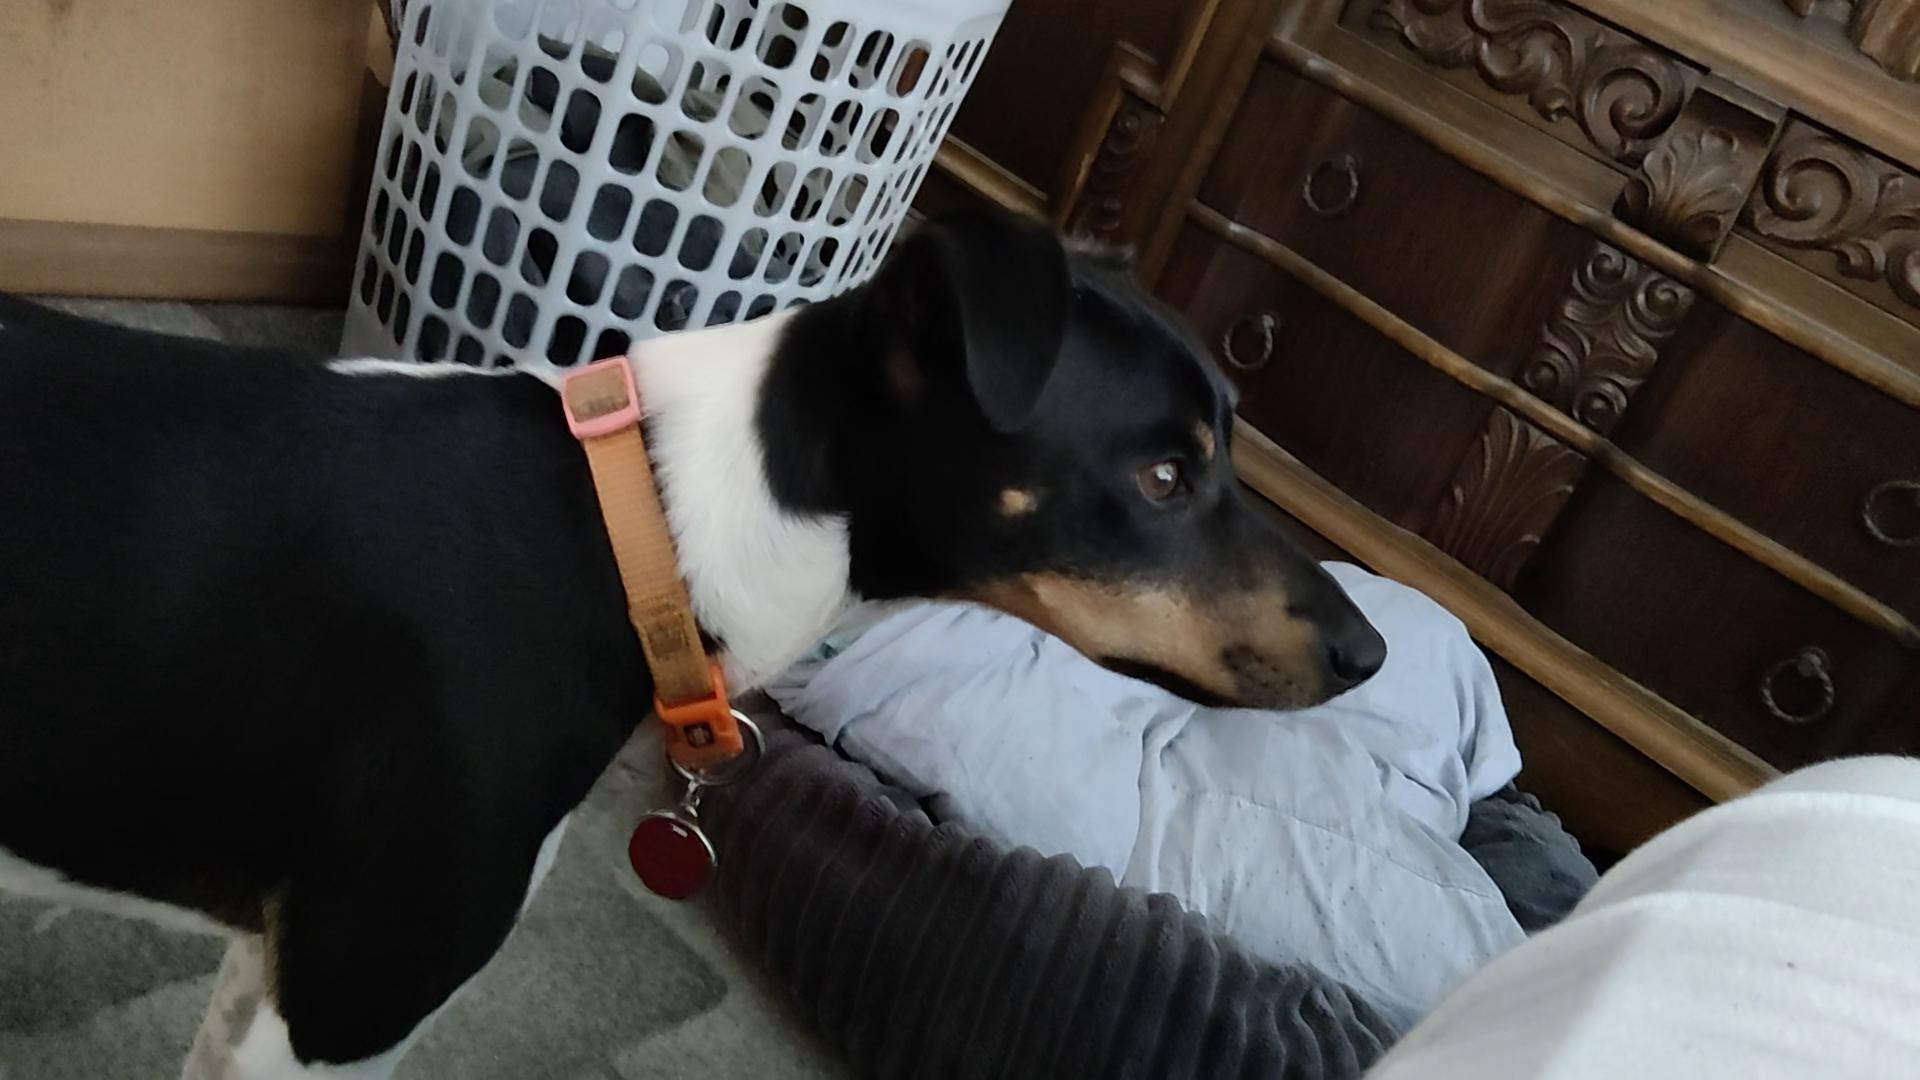Dog: (0, 202, 1398, 1079)
